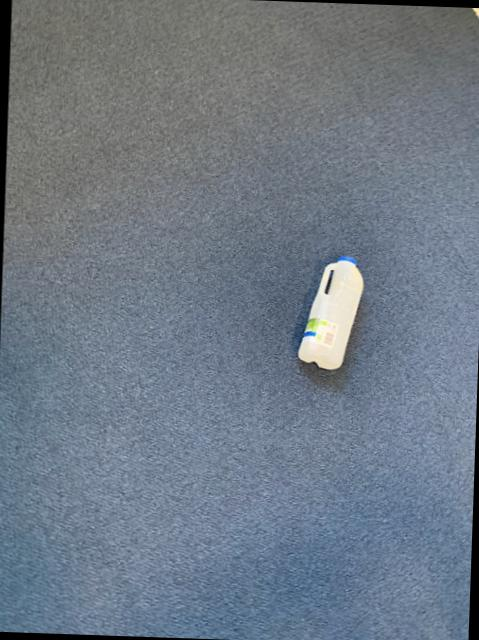plastic: (296, 255, 360, 368)
